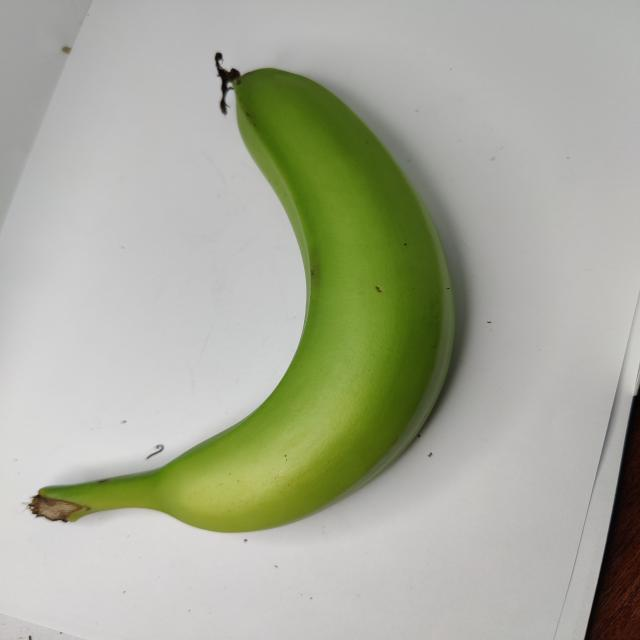raw: (34, 49, 481, 558)
